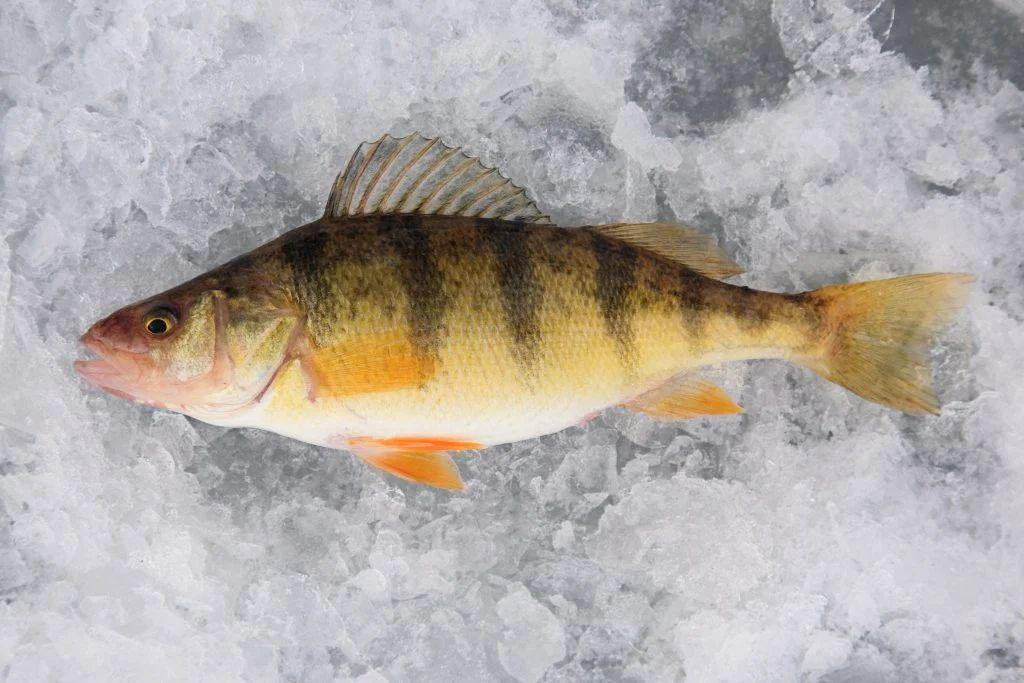Perch: (67, 128, 978, 497)
